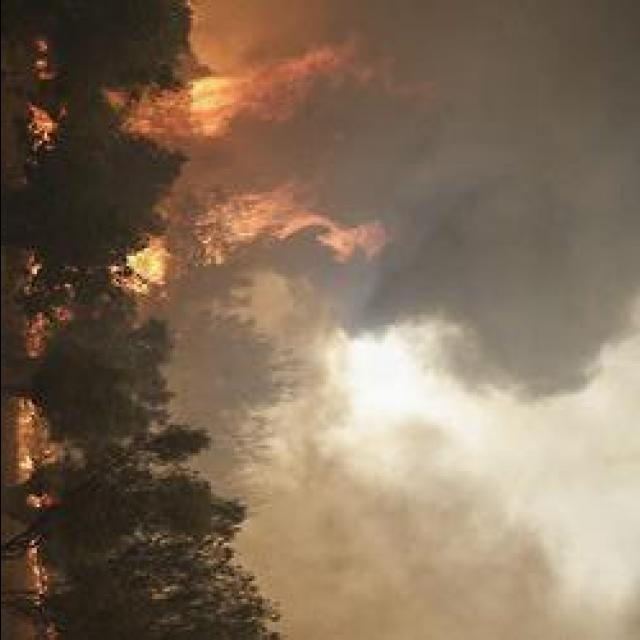fire: (205, 194, 292, 248), (179, 75, 249, 138), (106, 246, 166, 296)
smoke: (453, 257, 605, 409), (282, 248, 431, 354)
